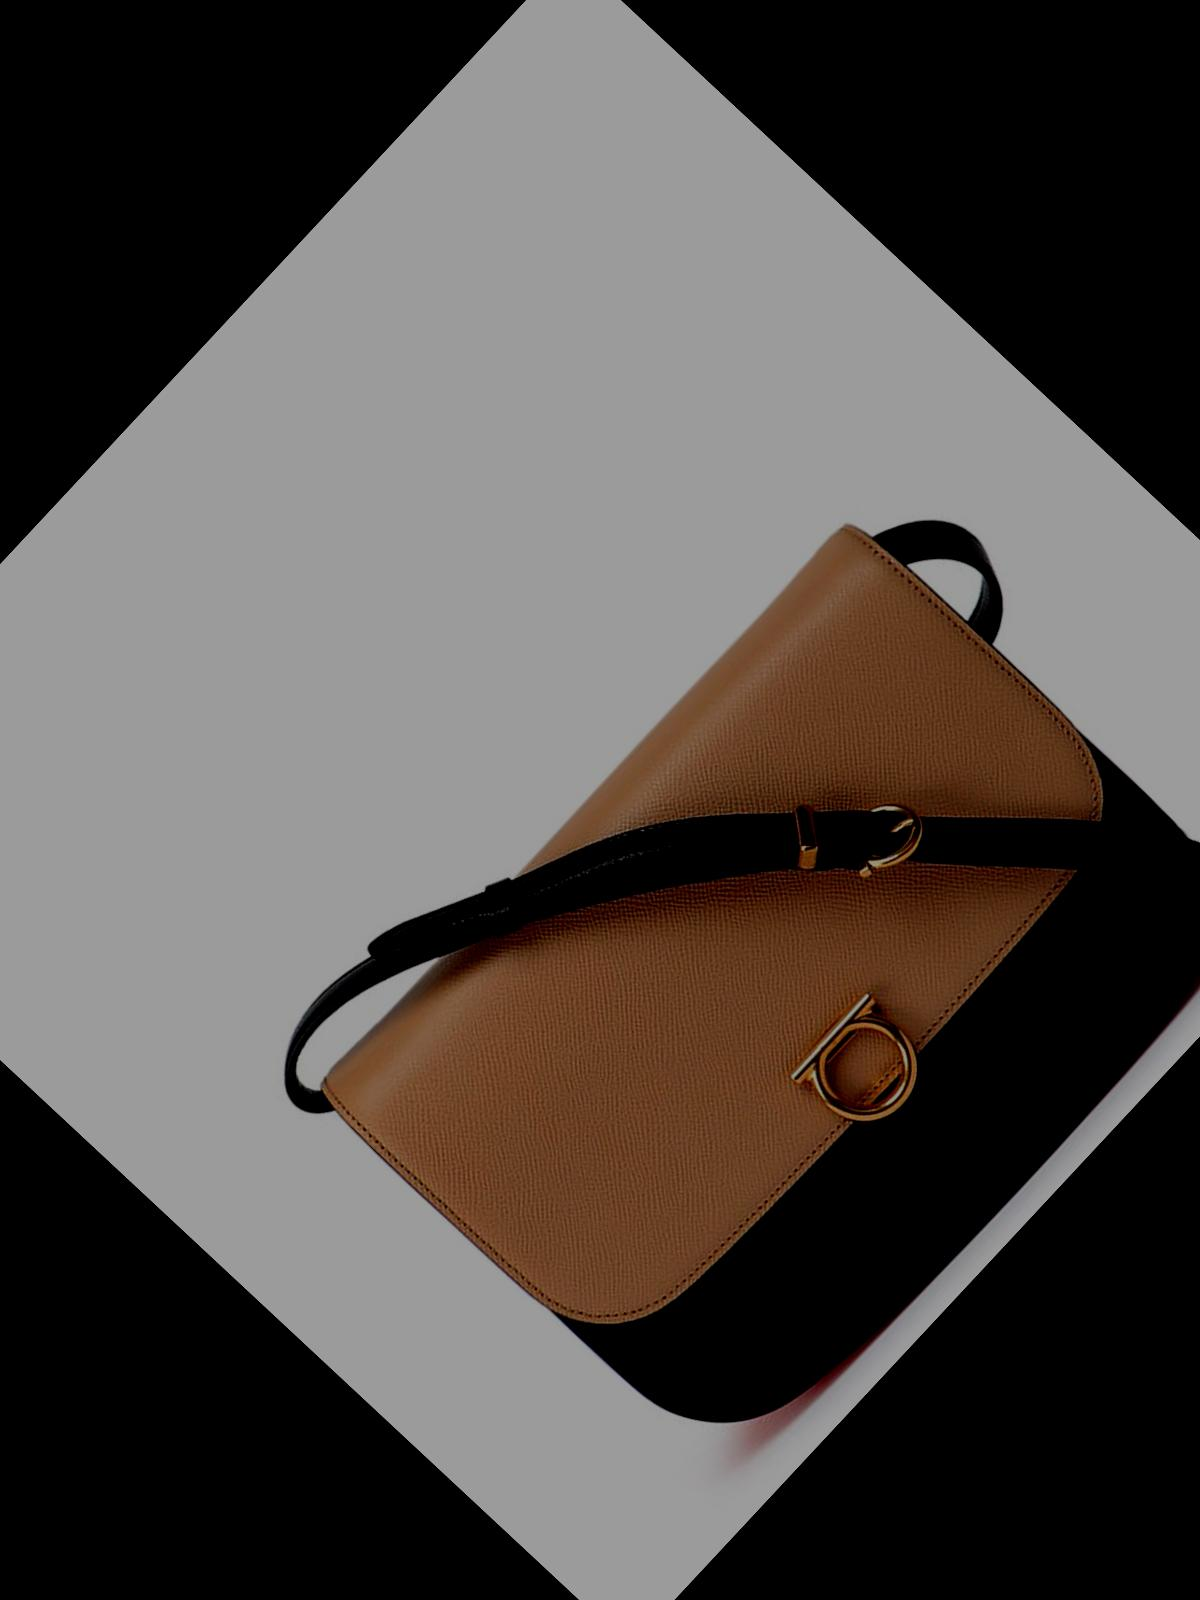FERRAGAMO: (742, 951, 979, 1188)
